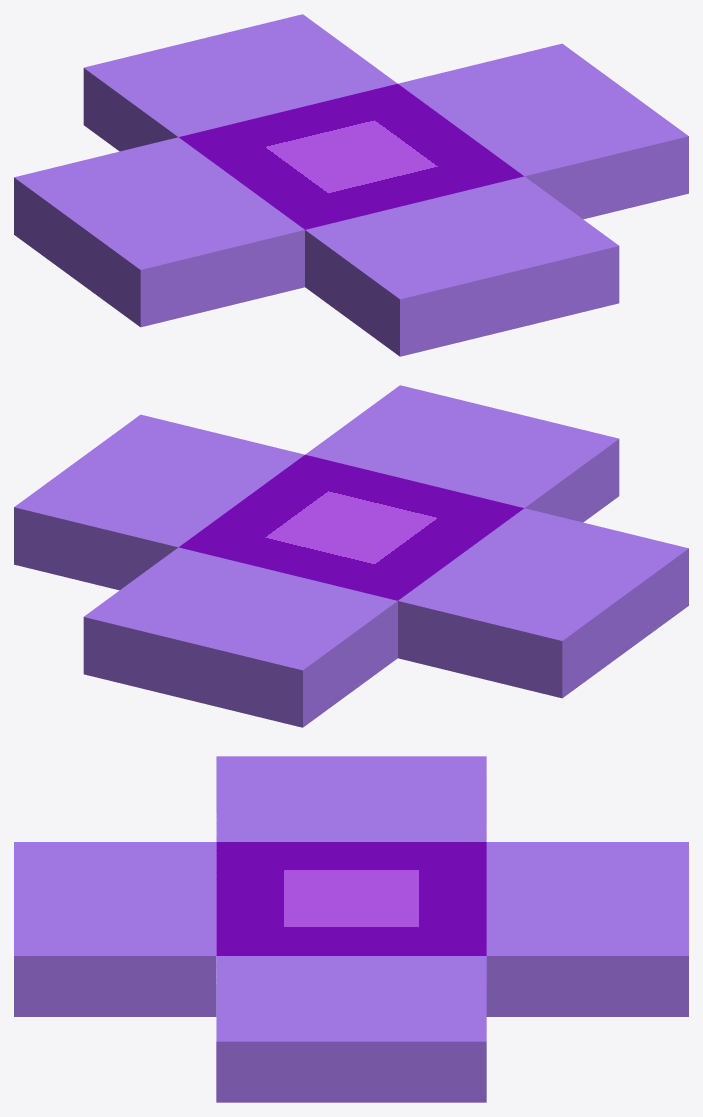
The model's file is EnemySmallBullet.fbx.
3 views of the same model, one above another, from view 1: azimuth 30°, elevation 25°; view 2: azimuth 150°, elevation 25°; view 3: azimuth 270°, elevation 25° (orthographic). The views are drawn at different scales.
Parts seen in each view (by area): view 1: cuboid; view 2: cuboid; view 3: cuboid.
Boxes of the visible parts, x1=… form: cuboid: x1=14, y1=14, x2=688, y2=356; cuboid: x1=14, y1=385, x2=688, y2=727; cuboid: x1=14, y1=756, x2=688, y2=1102.
Size of the model in its own units: 62.5 by 6.25 by 62.5.
1 material, 1 textured.
